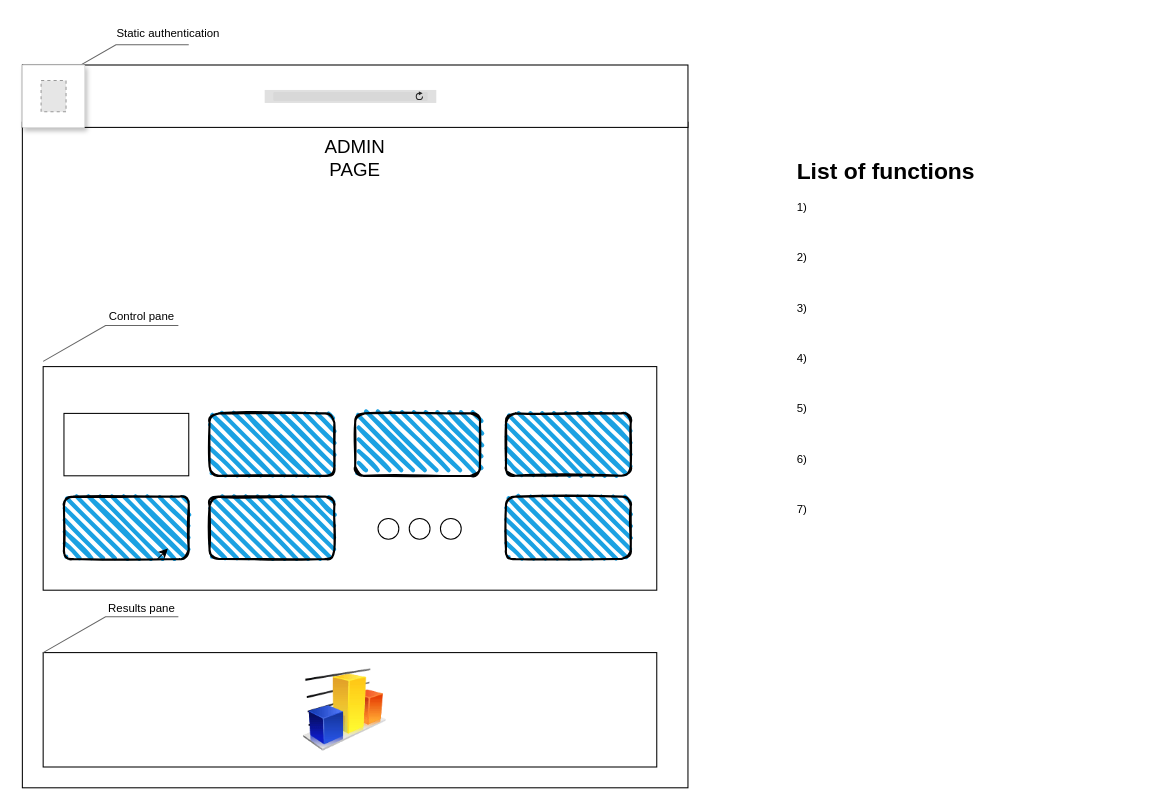
This 1153x806 diagram has some shape labels left out. Grey dashed boxes stand in for pictures. The shapes that lost their labels are listed below. From the top down, each one's centre as x and y in pixels, then its label:
point (350, 96): AdminPage-URL
point (126, 444): Function 1
